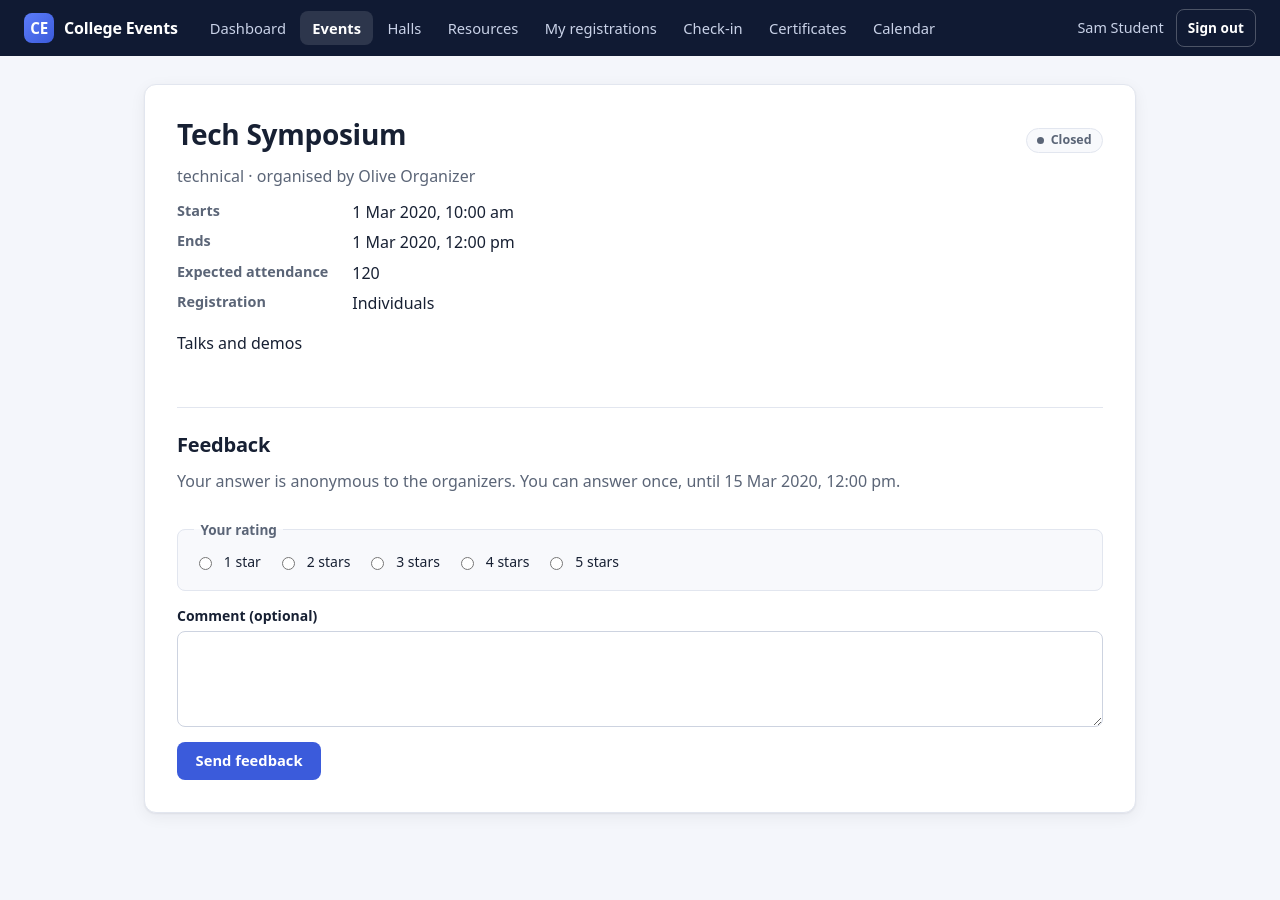
Test: giving feedback › lets a checked-in person rate the finished event, then thanks them
The image size is (1280, 900).
Click the radio button labelled "4 stars" at (467, 563), box left=461, top=557, right=474, bottom=570
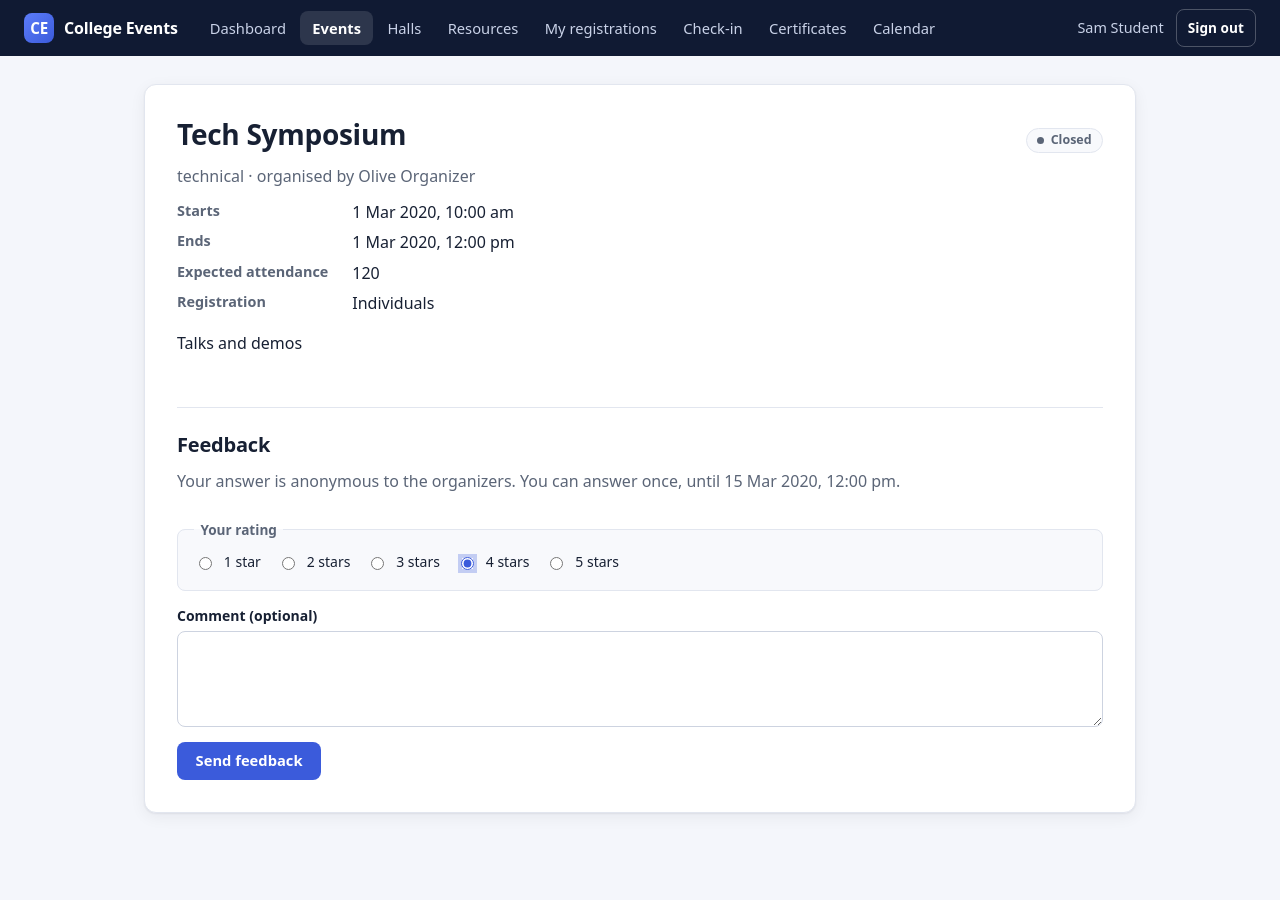
Type "Great speakers" into the text box labelled "Comment (optional)" at (640, 679), box left=177, top=631, right=1103, bottom=727
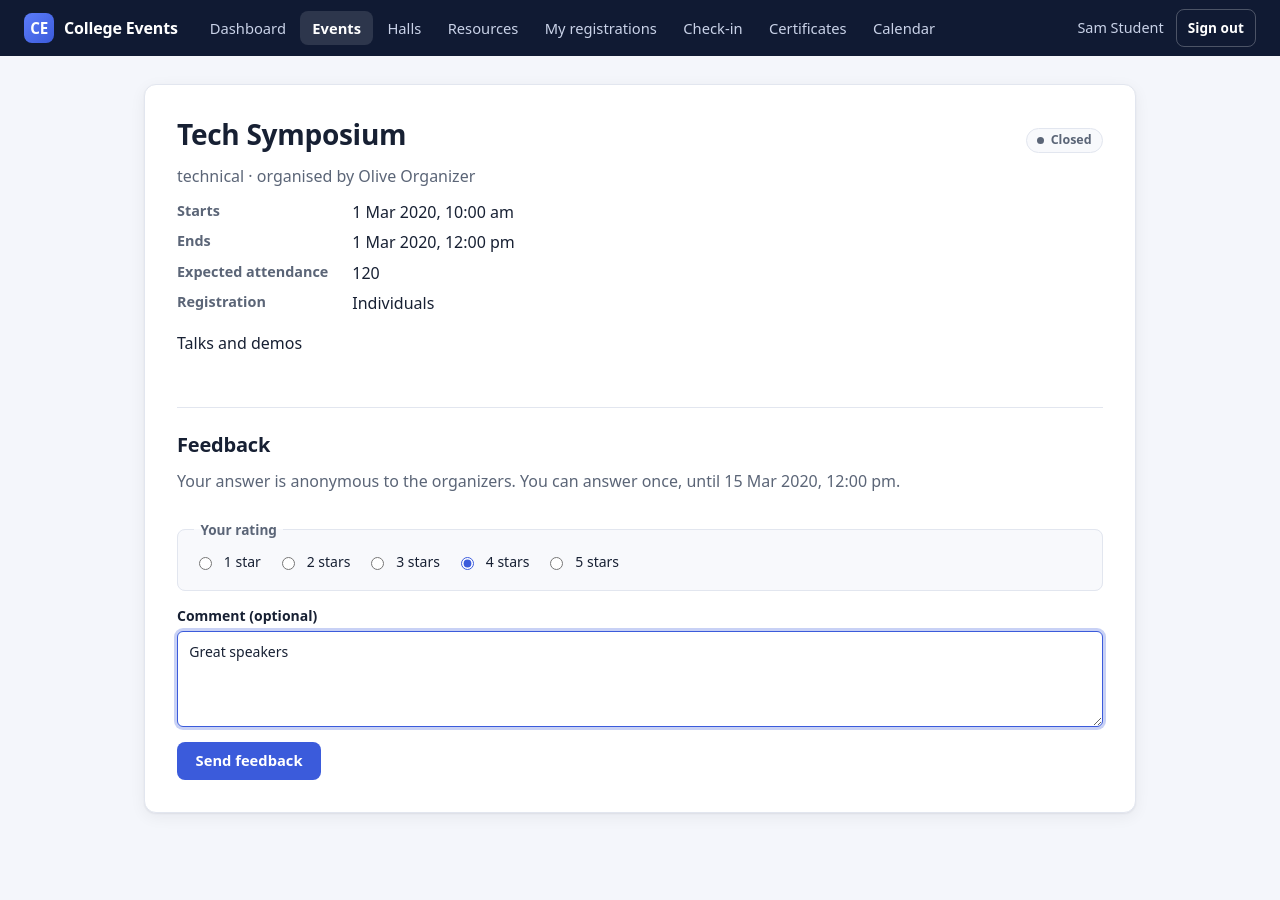
Click the button "Send feedback" at (249, 761), box left=177, top=742, right=321, bottom=780
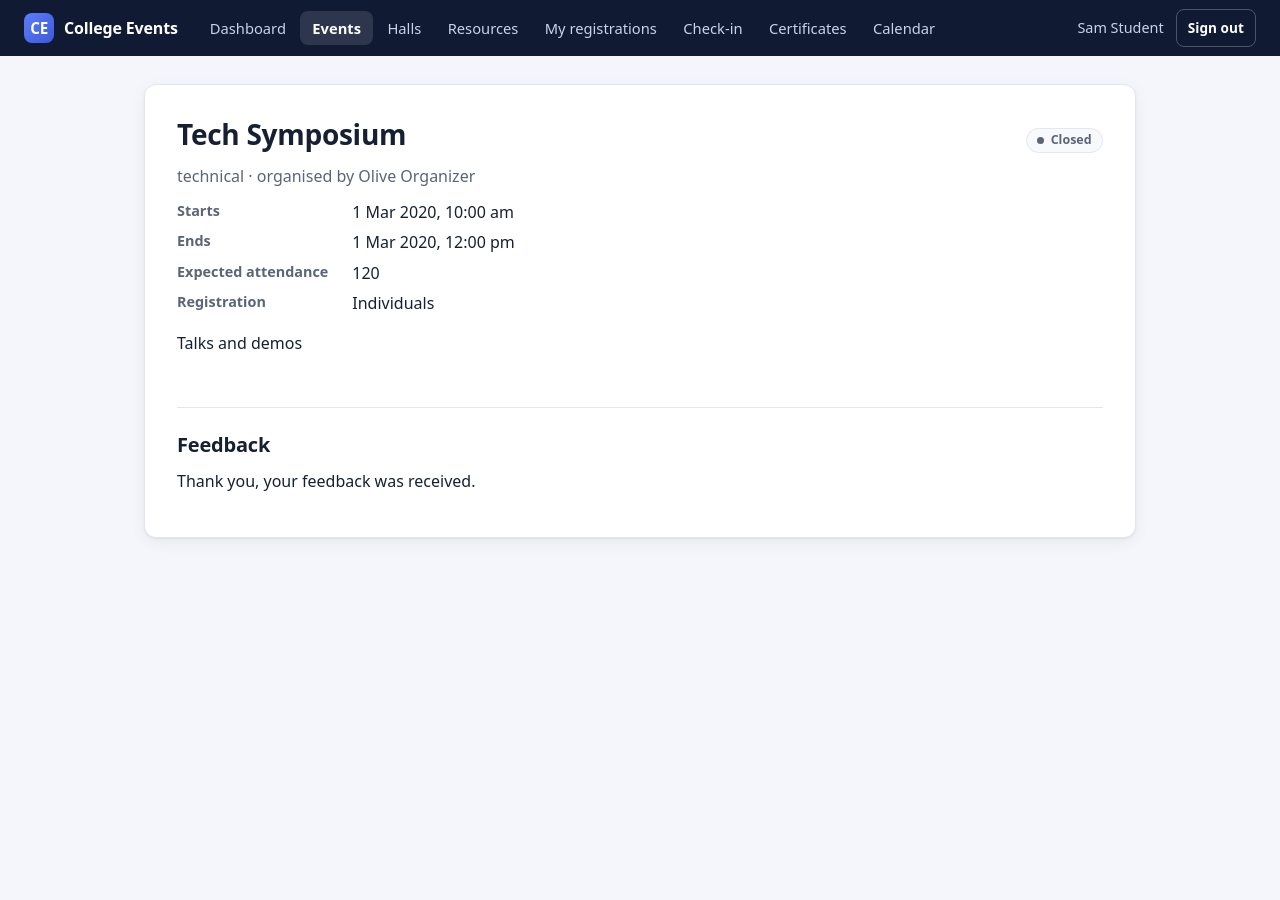
Expected: the text "Thank you, your feedback was received." is shown, left=177, top=470, right=475, bottom=492
Expected: the button "Send feedback" is gone
